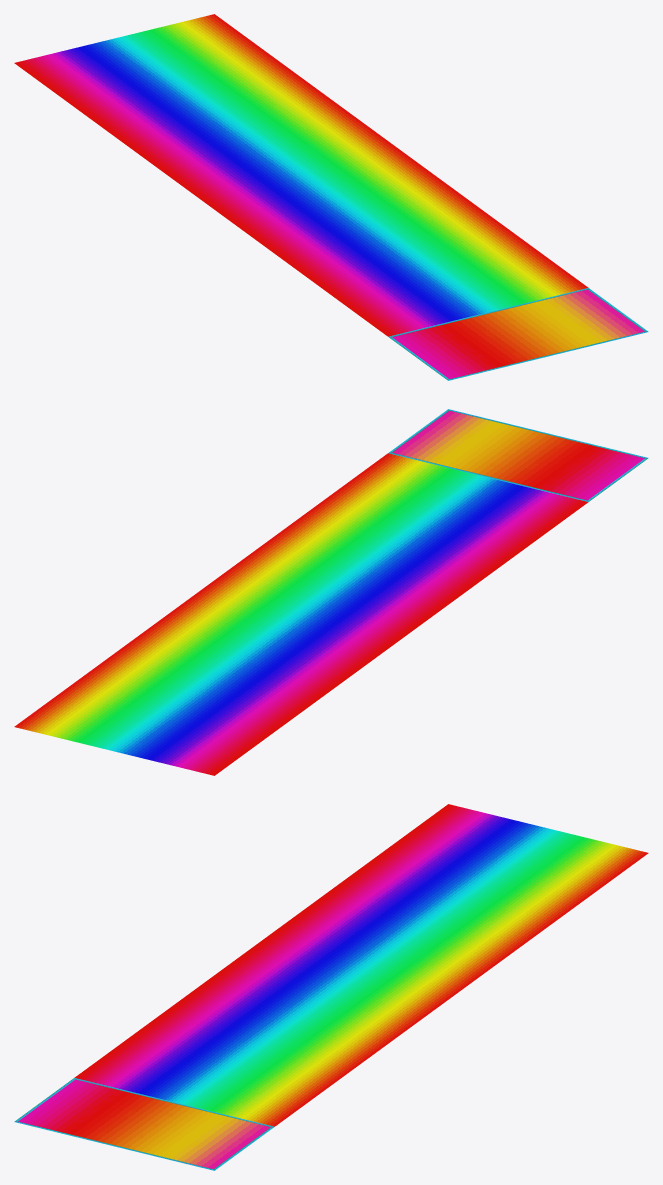
File: aurora.obj
3 views of the same model, one above another, from view 1: azimuth 30°, elevation 25°; view 2: azimuth 150°, elevation 25°; view 3: azimuth 330°, elevation 25° (orthographic).
Parts seen in each view (by area): view 1: polygon0, polygon1, polygon2; view 2: polygon0, polygon1, polygon2; view 3: polygon0, polygon1, polygon2.
Boxes of the visible parts, x1=… form: polygon0: x1=14, y1=14, x2=588, y2=336; polygon1: x1=392, y1=289, x2=644, y2=379; polygon2: x1=388, y1=288, x2=648, y2=380; polygon0: x1=14, y1=453, x2=588, y2=775; polygon1: x1=392, y1=410, x2=644, y2=500; polygon2: x1=388, y1=409, x2=648, y2=501; polygon0: x1=74, y1=804, x2=648, y2=1126; polygon1: x1=18, y1=1079, x2=270, y2=1169; polygon2: x1=14, y1=1078, x2=274, y2=1170.
Size of the model in its own units: 1575 by 0 by 5906.
3 materials, 3 textured.
